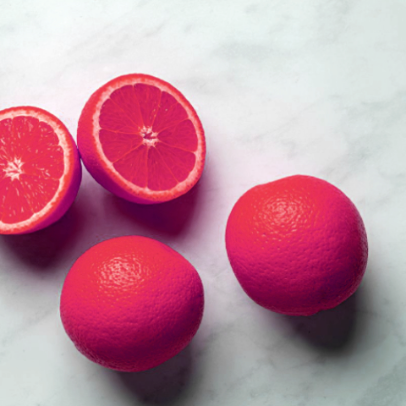orange: (211, 172, 375, 319), (47, 232, 215, 370)
